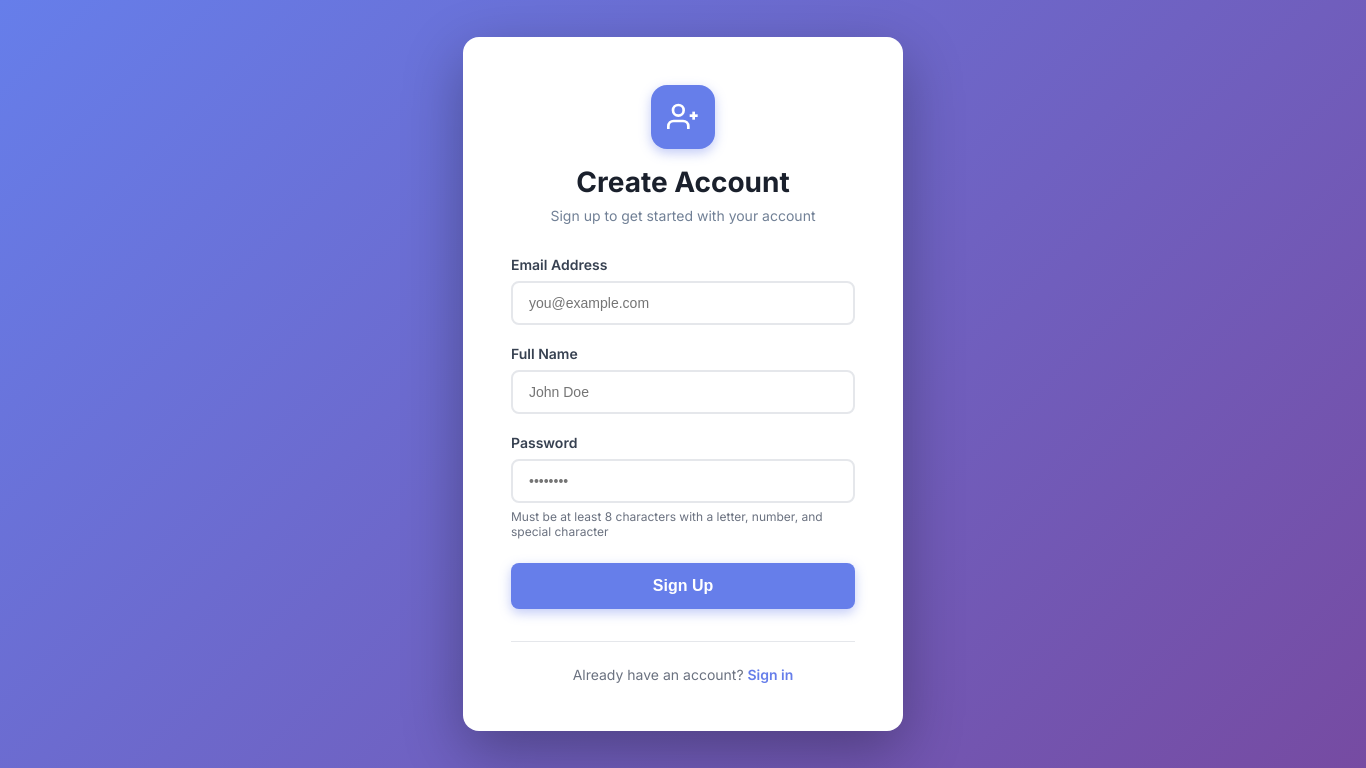
Test case: SignupPage - Unit Tests › displays validation error for short name
Type "ab" into the field labelled "Full Name" at point(683, 392), box [511,370,855,414]
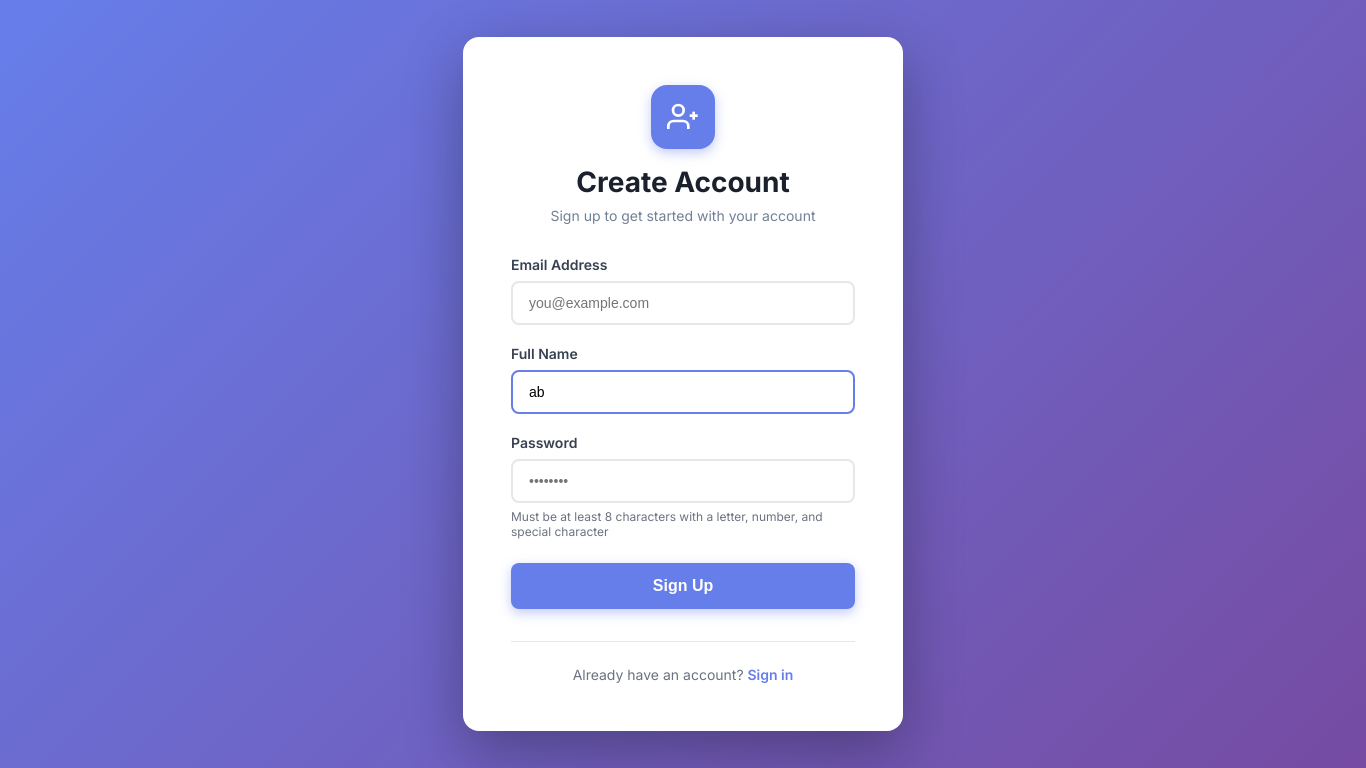
Press Tab
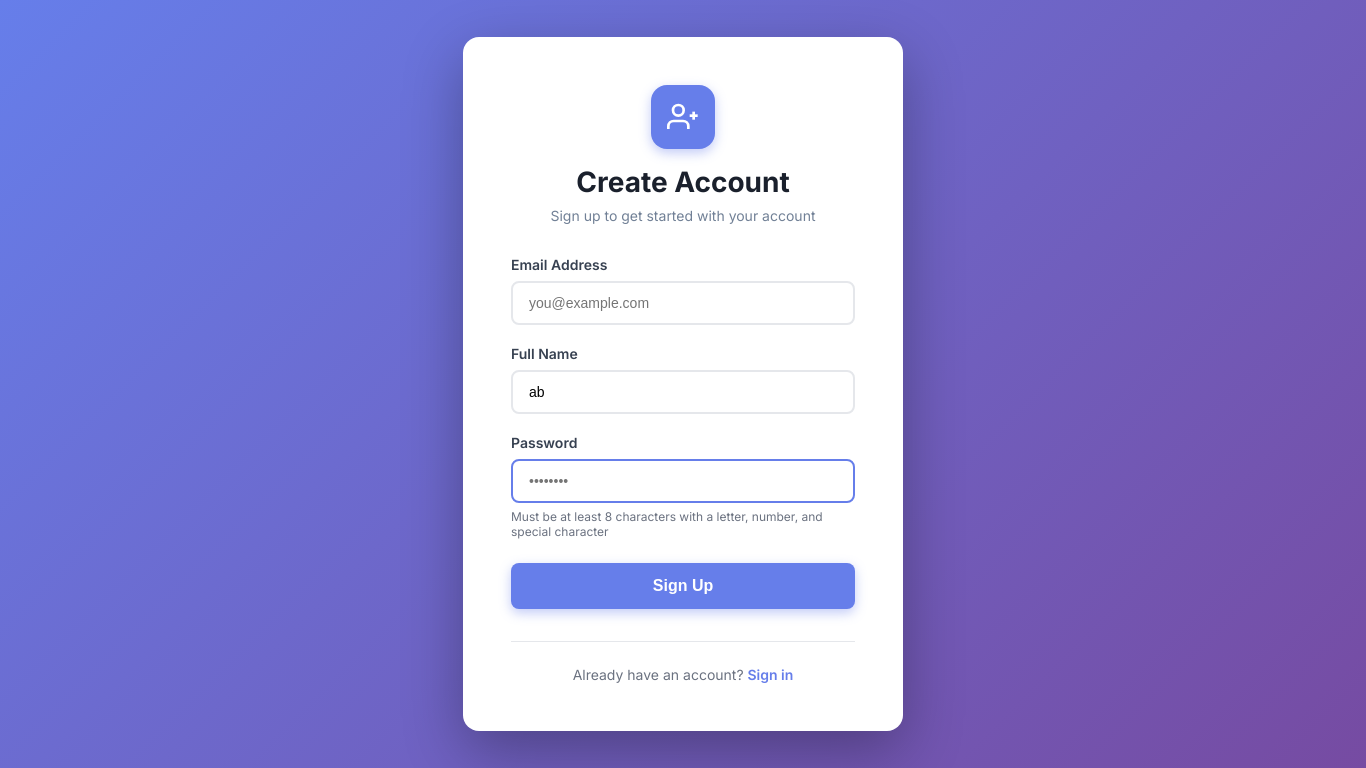
Click the button "Sign Up" at point(683, 586), box [511,563,855,609]
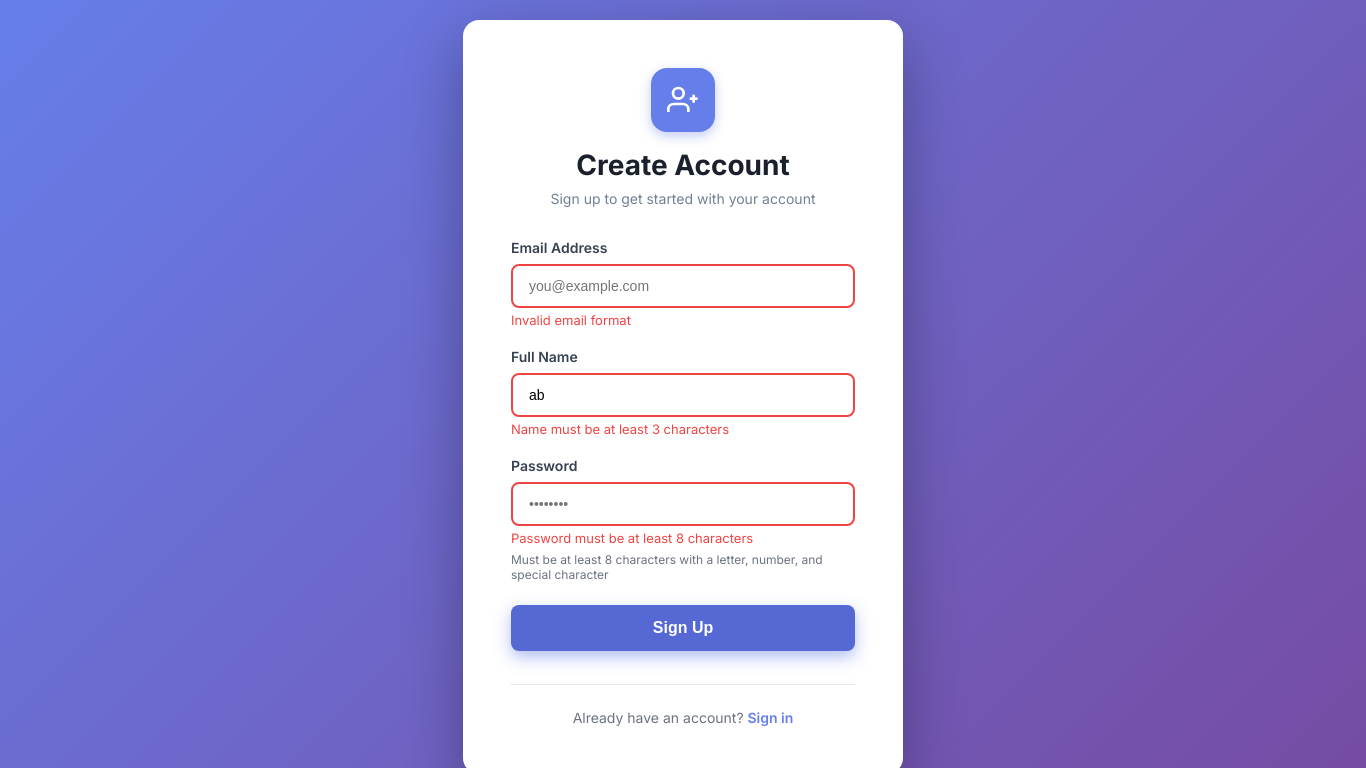
Now the text "Name must be at least 3 characters" is shown, box [511,421,729,437]
